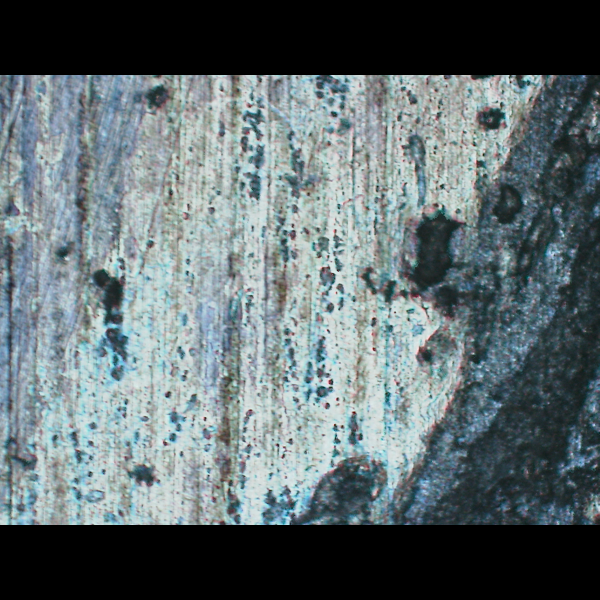d: (281, 75, 599, 524)
